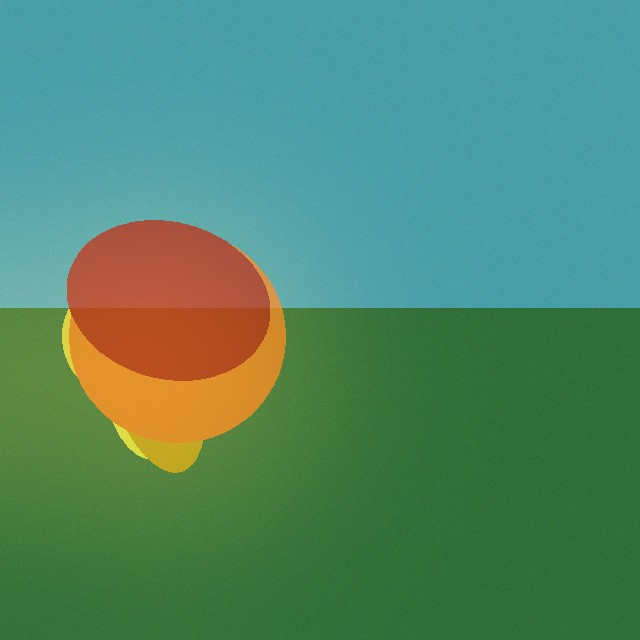fire: (46, 278, 268, 466)
